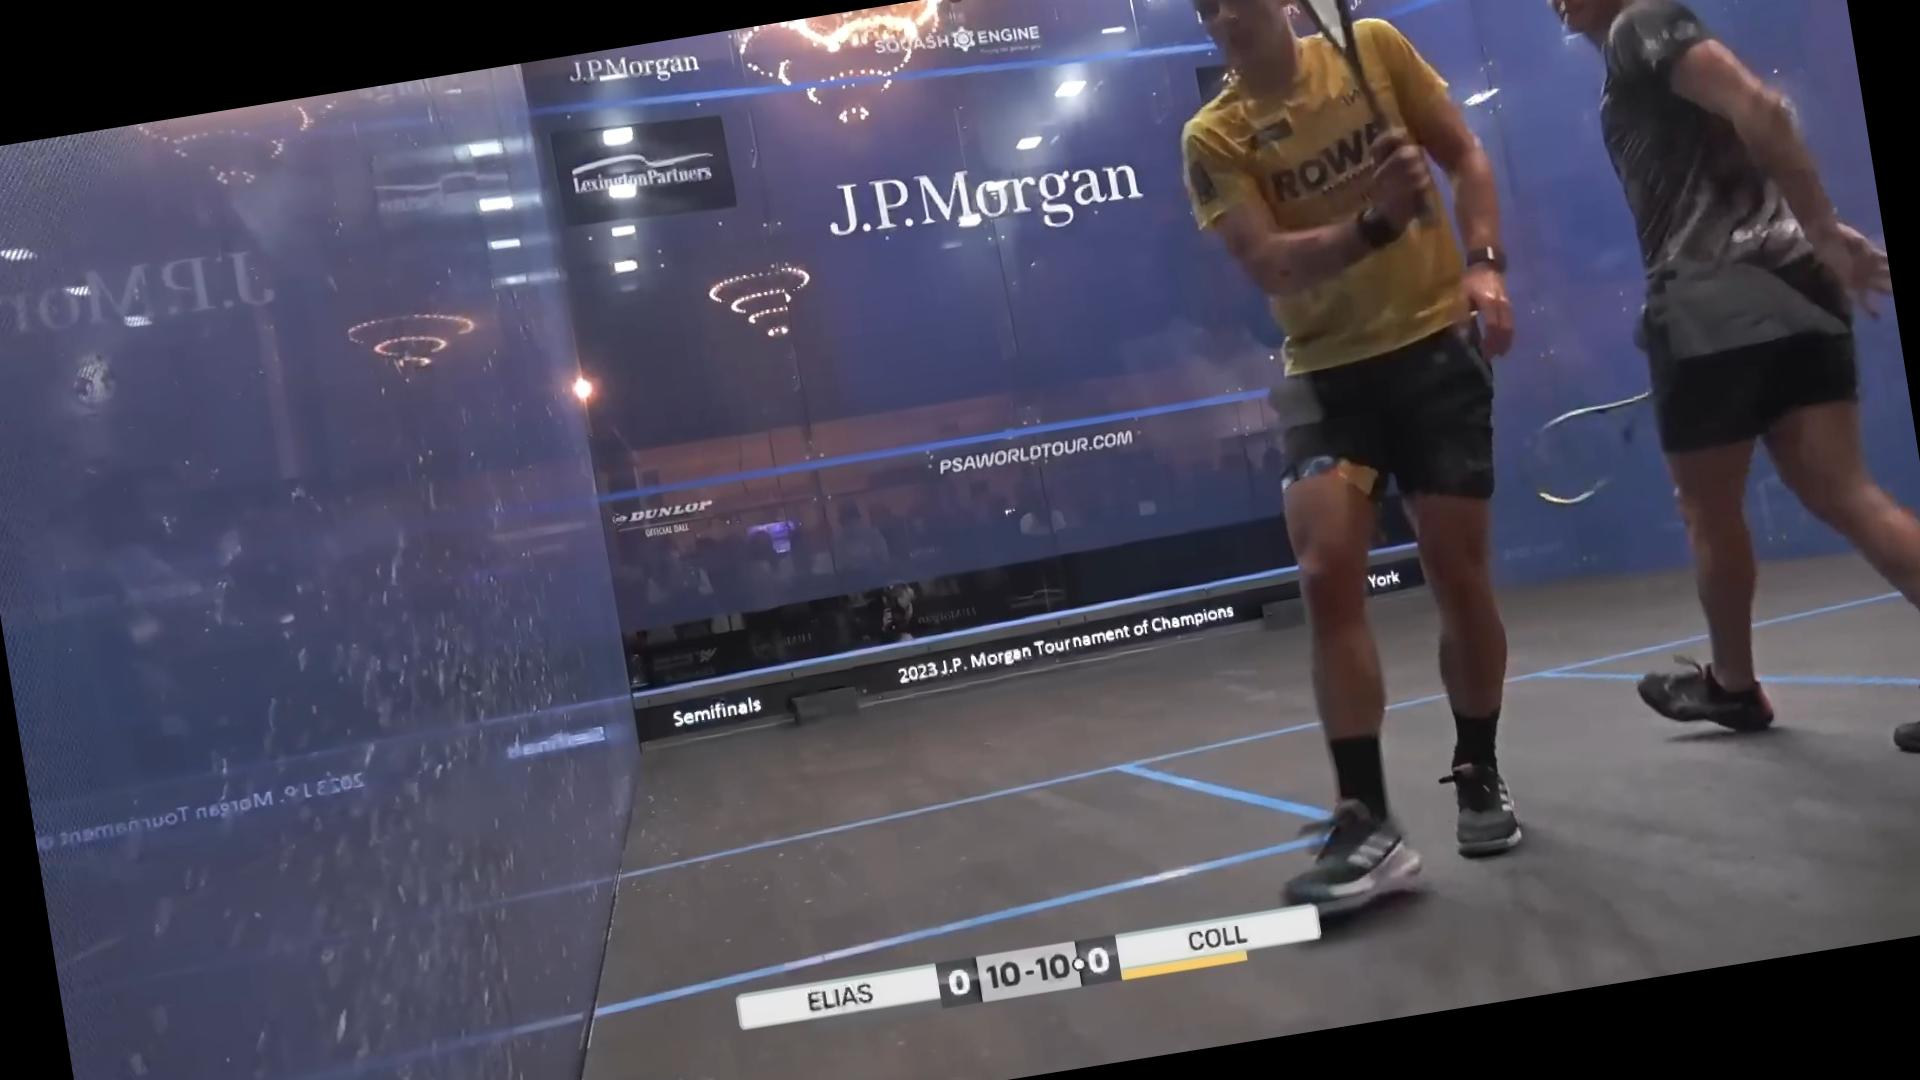Racket: (1265, 0, 1451, 258), (1518, 381, 1671, 517)
